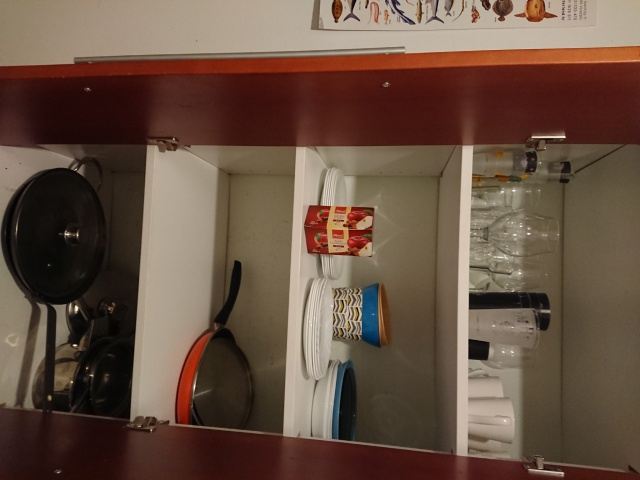Franck Apple Cinnamon Tea 60g: (301, 203, 376, 259)
